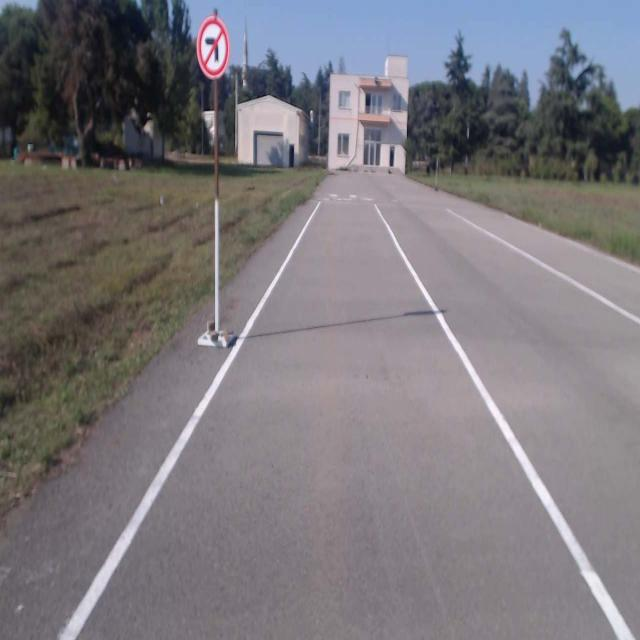soladonulmez: (197, 19, 229, 76)
